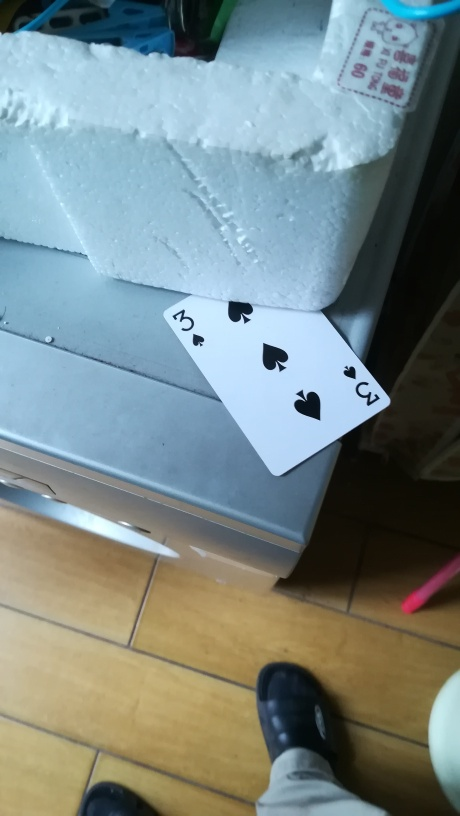ht 3: (161, 285, 396, 479)
